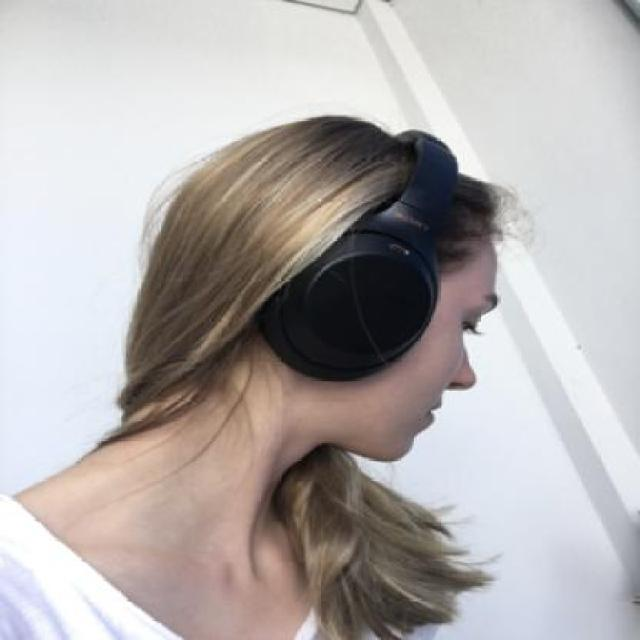earphone: (293, 76, 445, 422)
